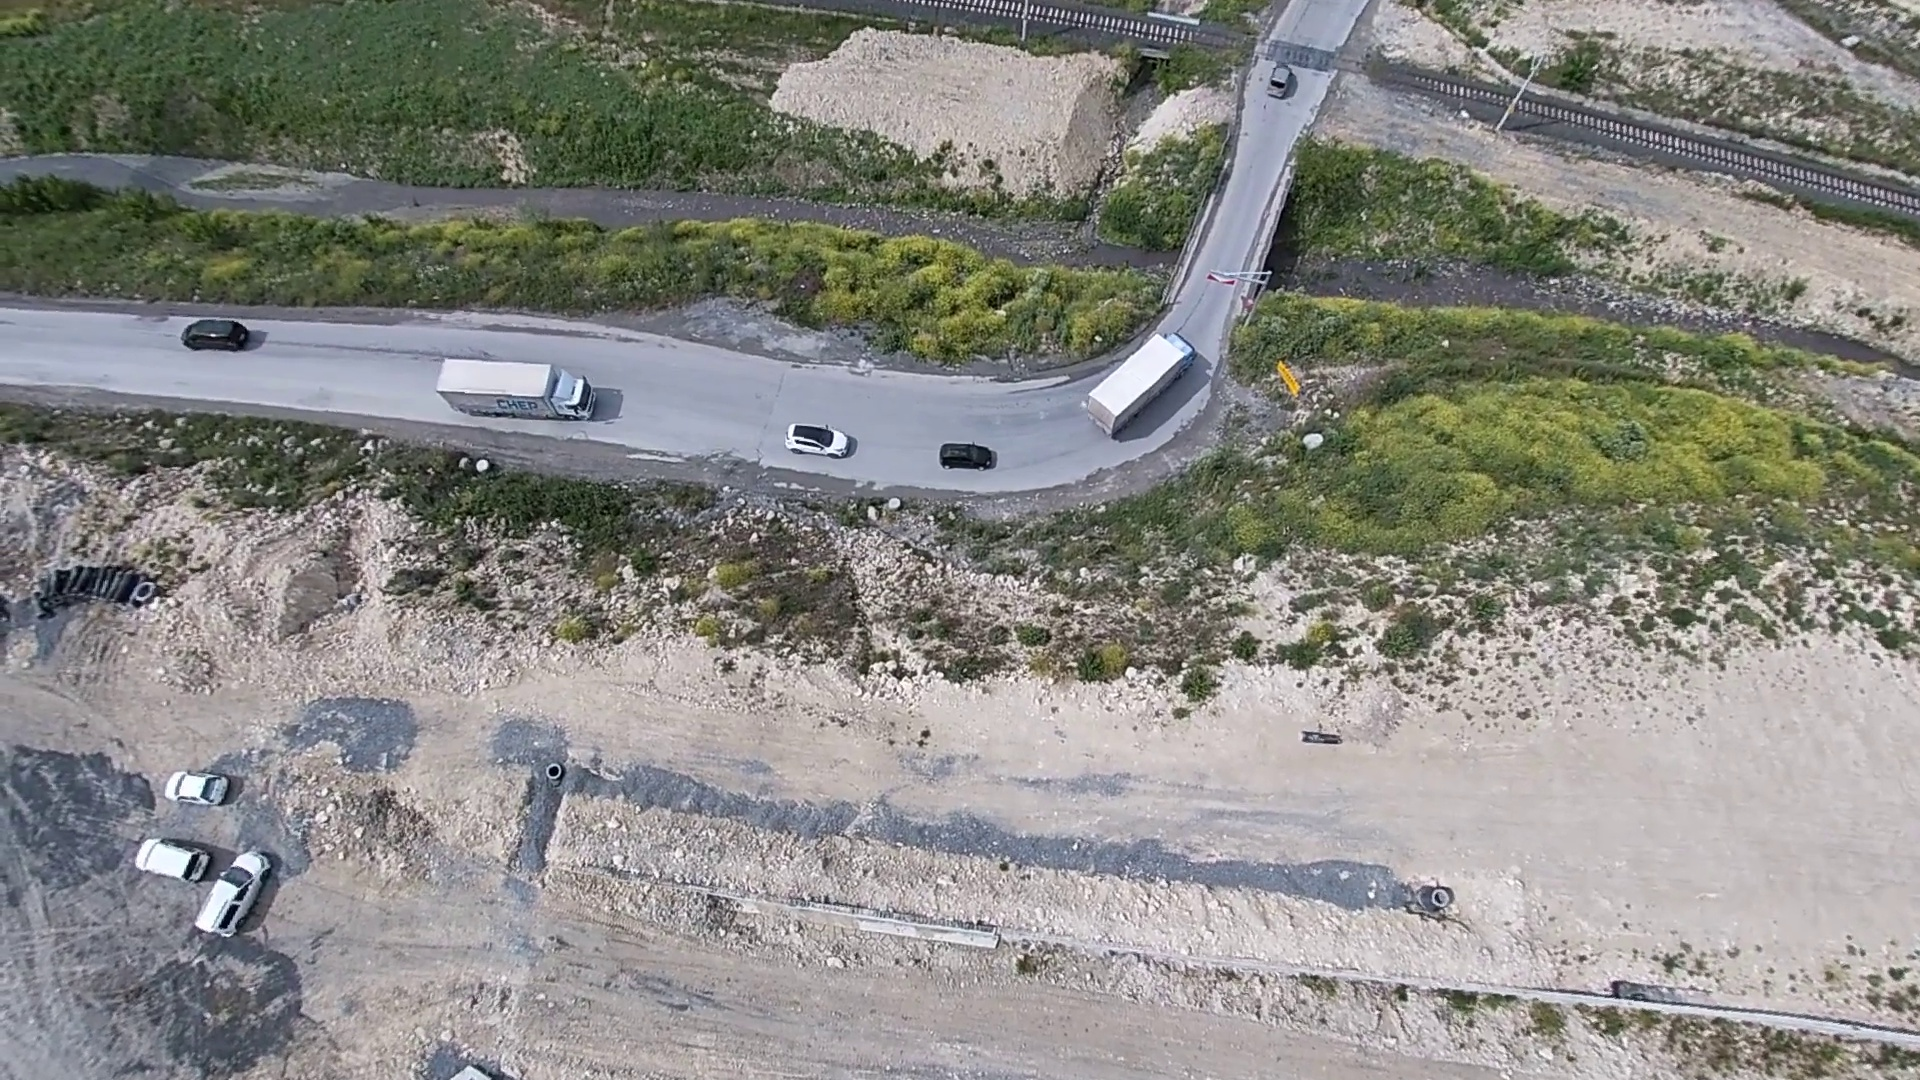araba: (189, 844, 286, 940), (135, 836, 210, 884), (156, 767, 239, 810), (775, 415, 853, 458), (179, 311, 255, 355), (1261, 61, 1305, 105), (942, 436, 1000, 469)
kamyon: (1073, 326, 1211, 443), (434, 353, 592, 422)
